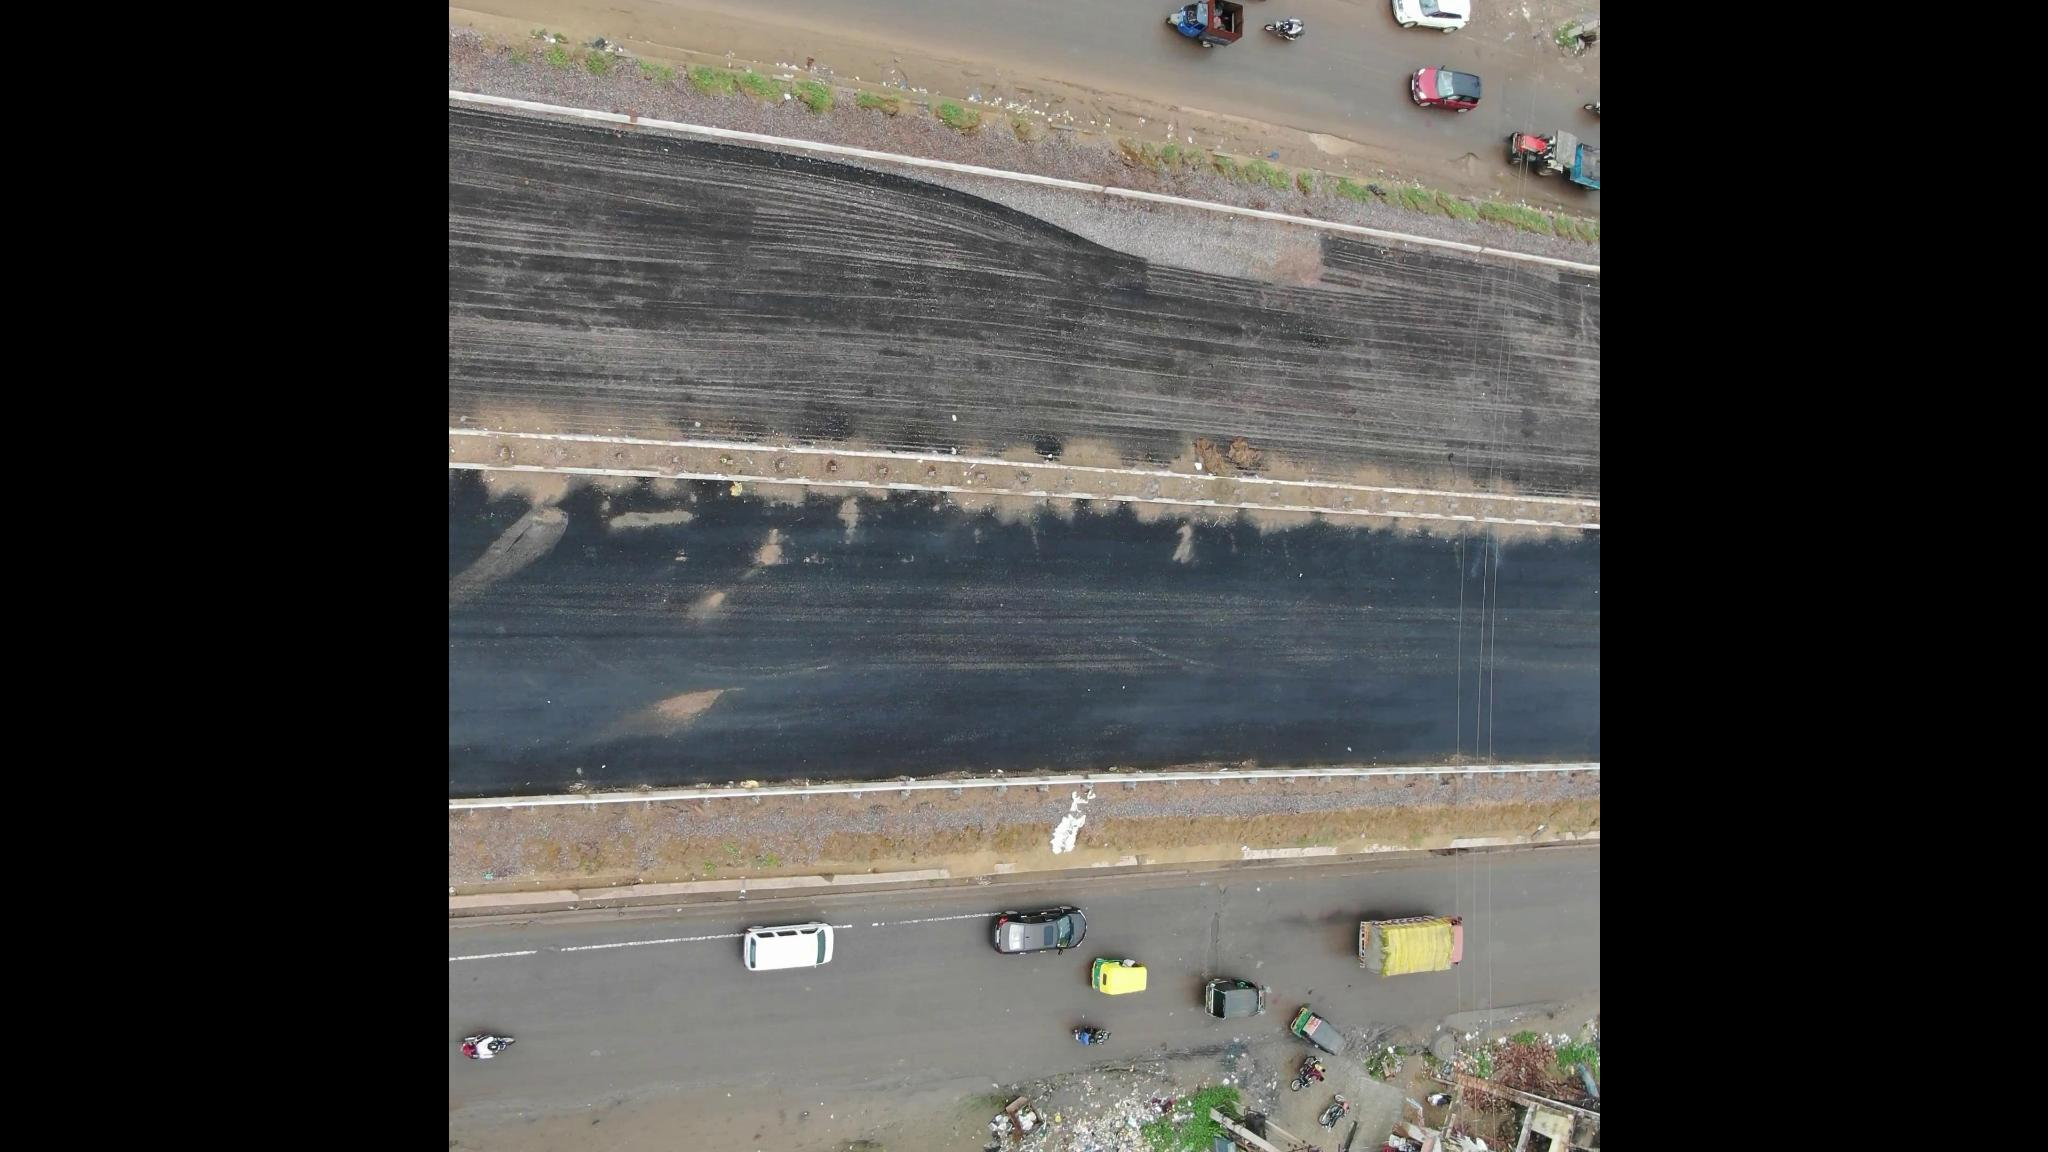Muddy_road: (720, 1, 968, 108), (463, 1, 737, 65)
